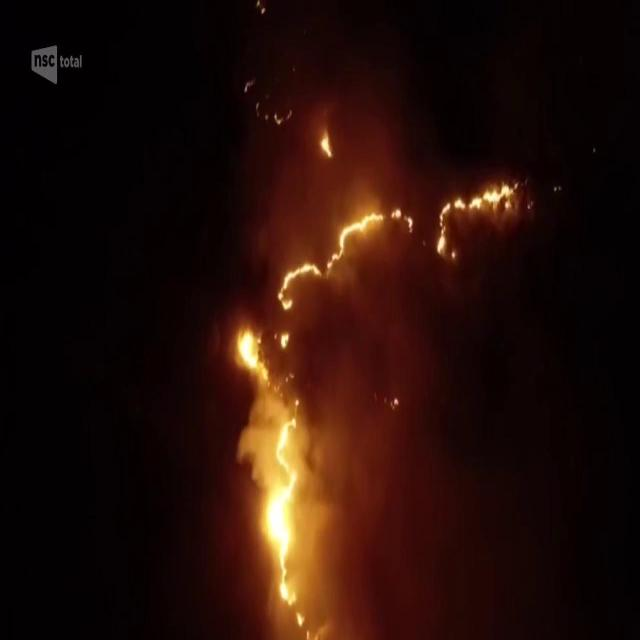Fire: (259, 413, 303, 628), (428, 183, 514, 253), (328, 212, 382, 266), (278, 260, 320, 310), (234, 335, 270, 378), (391, 209, 413, 233), (319, 132, 333, 158), (281, 332, 289, 347)
